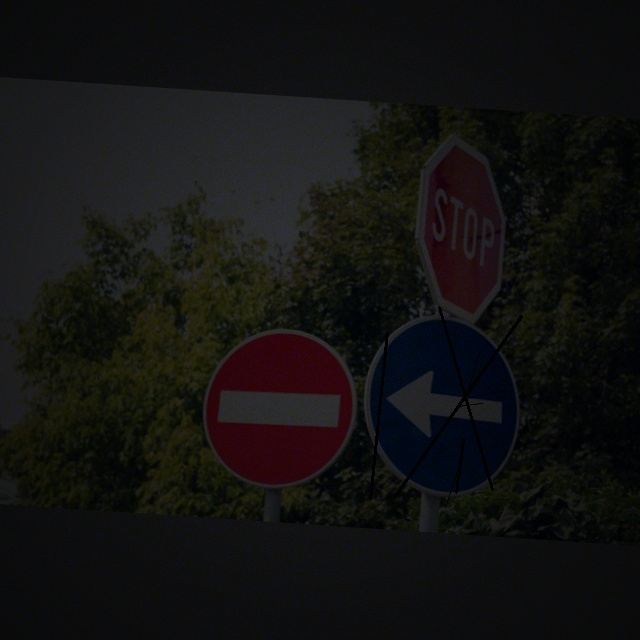Compulsory_Turn_Left: (360, 307, 527, 503)
